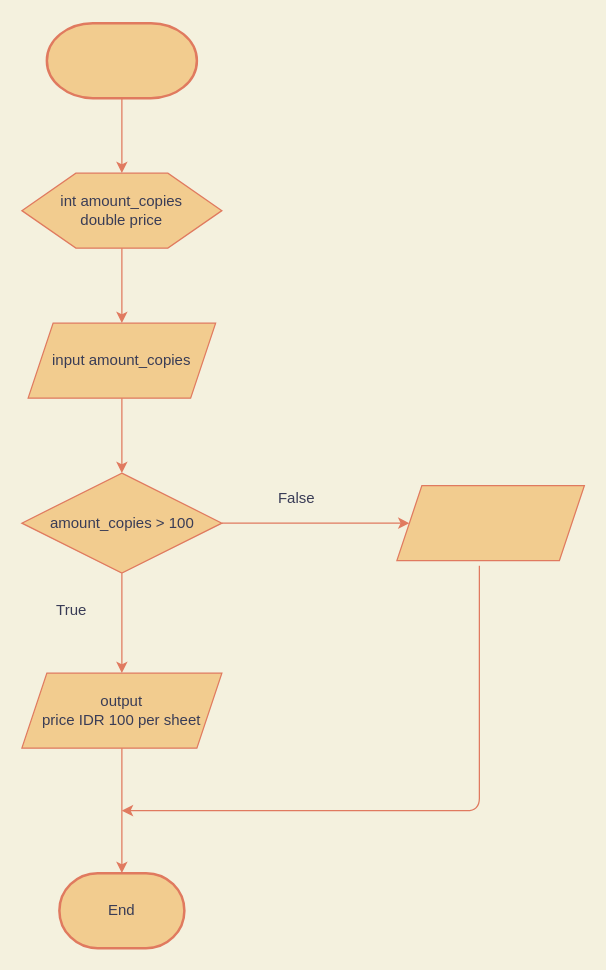
This 606x970 diagram has some shape labels left out. The centre of each missing label's shape, as x and y in pixels:
output IDR 150 per sheer: the point at 490,522
Start: the point at 121,60
